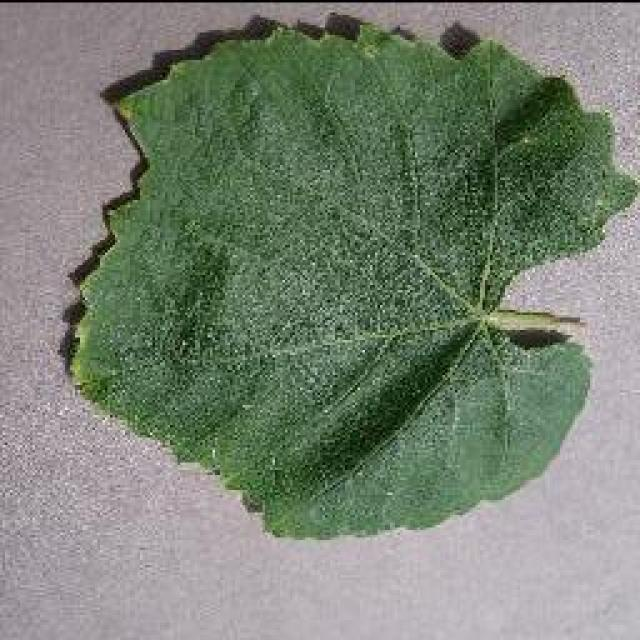Grape___healthy: (72, 18, 638, 535)
